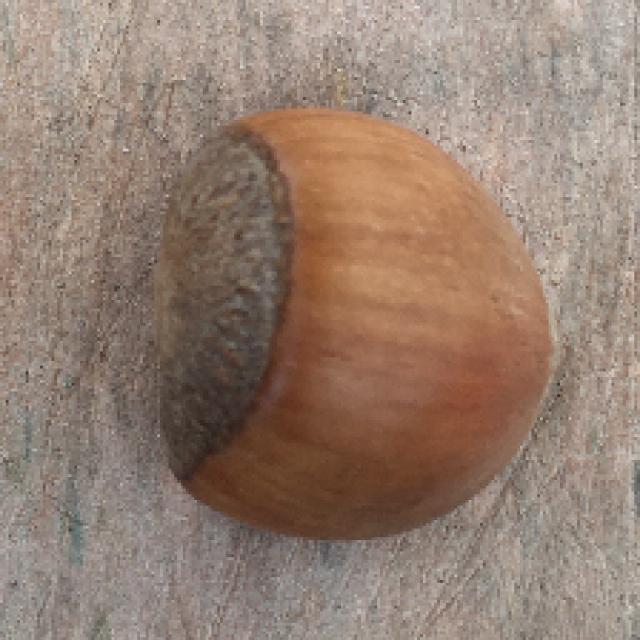DamagedHazelnut: (159, 111, 551, 542)
